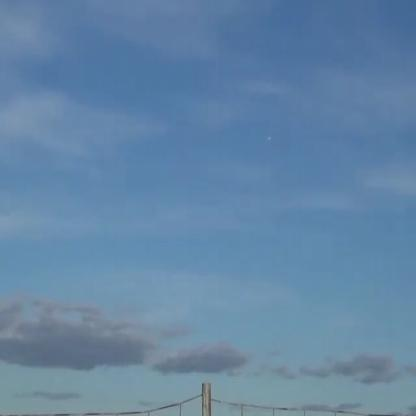plane: (265, 133, 275, 145)
